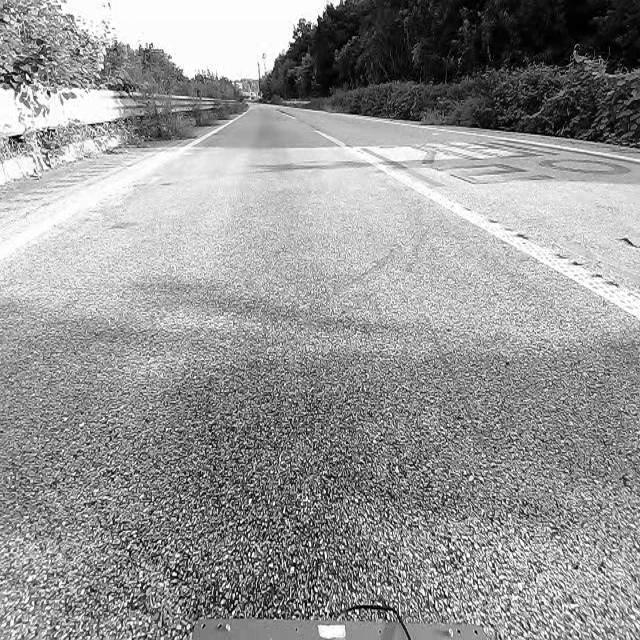Lane: (318, 131, 639, 320), (308, 126, 640, 308), (0, 113, 242, 285), (0, 121, 234, 279)
